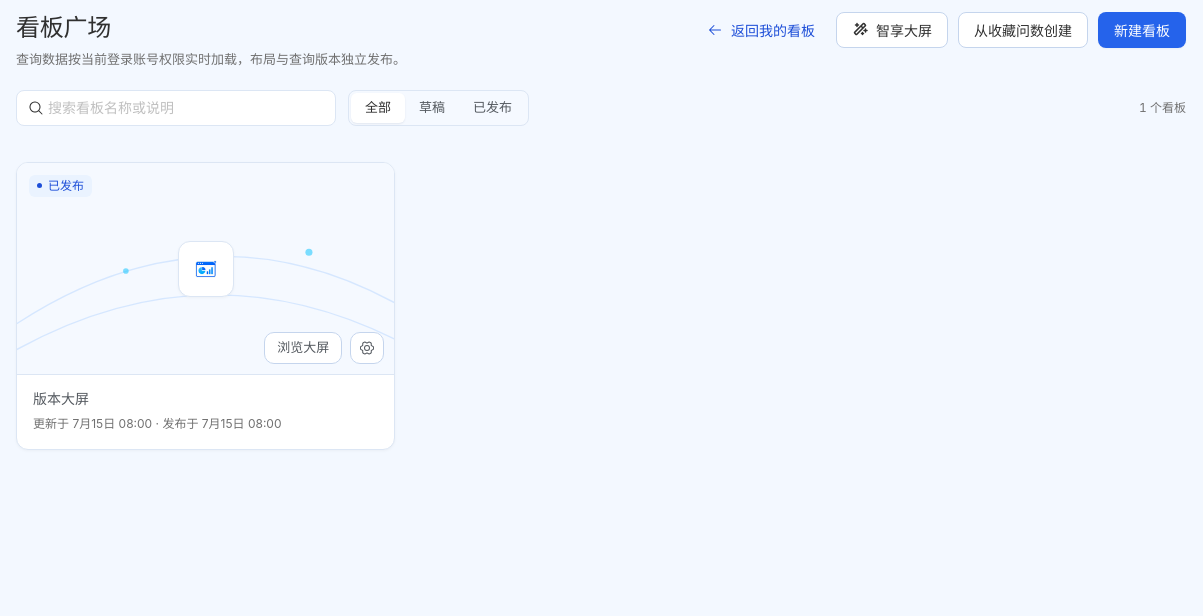
Test: DashboardSquarePage › expands the persisted published version history
Step 1. Click the button named "版本大屏 设置" → [367, 348], box [350, 332, 384, 364]
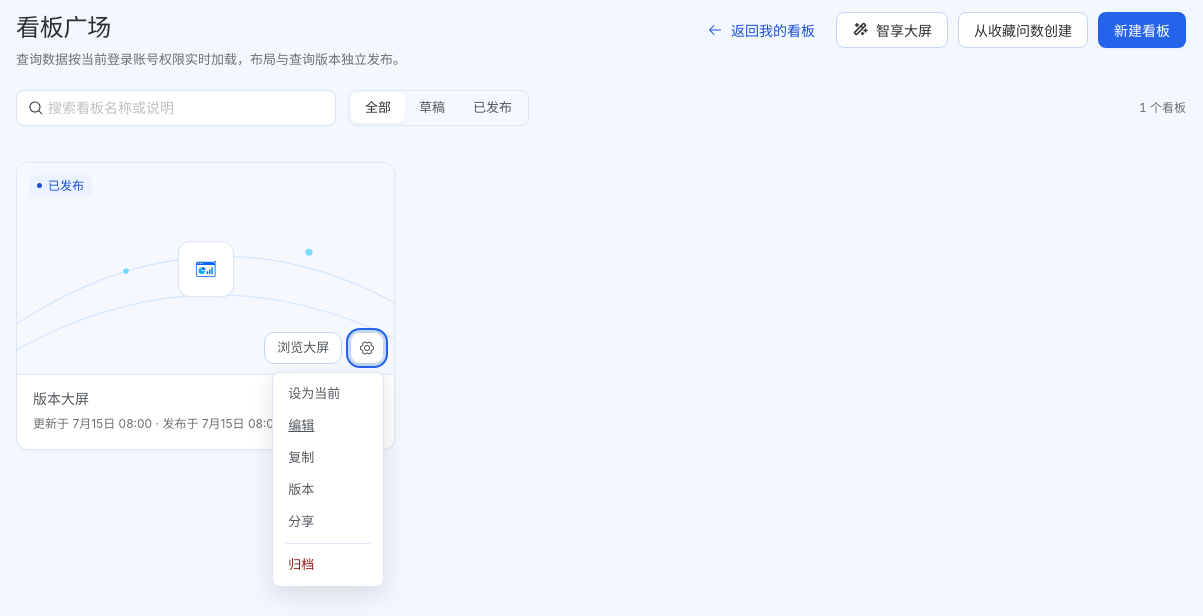
Step 2. Click the menu item "版本" → [328, 490], box [278, 474, 378, 506]
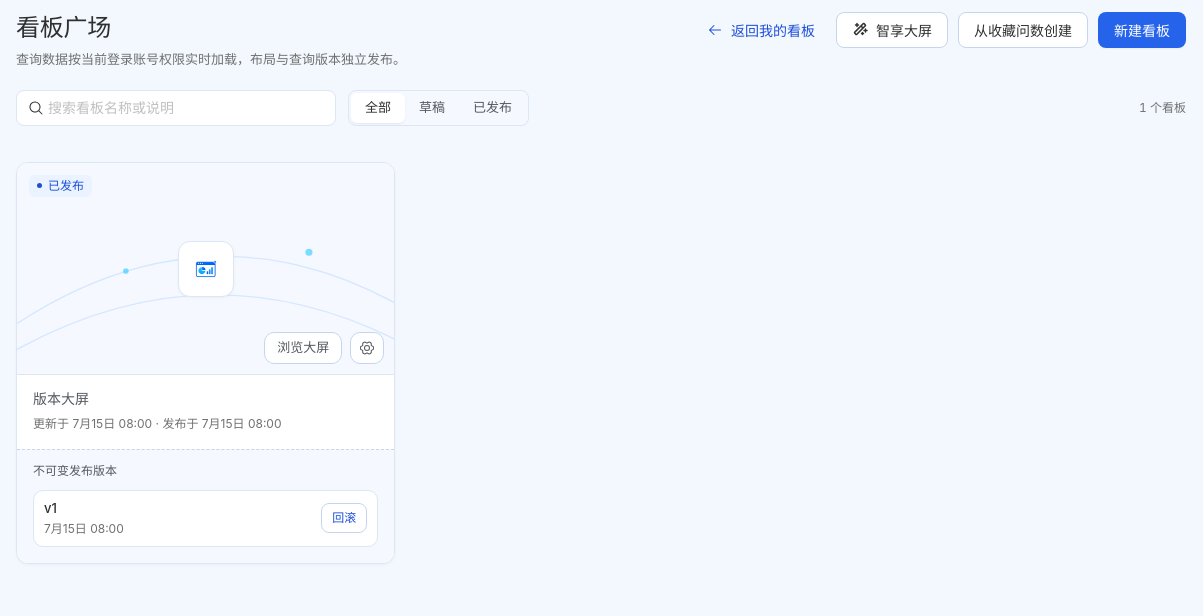
Expected: the text "v1" is shown, [44, 500, 124, 536]
Expected: the button "回滚" is shown, [321, 504, 367, 534]
